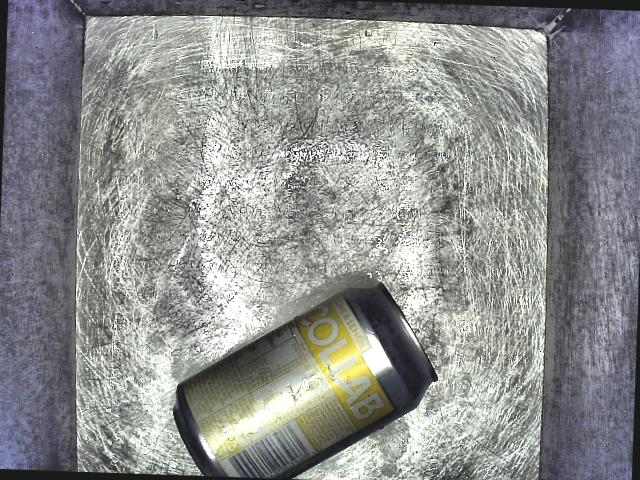Bottles: (151, 267, 447, 480)
